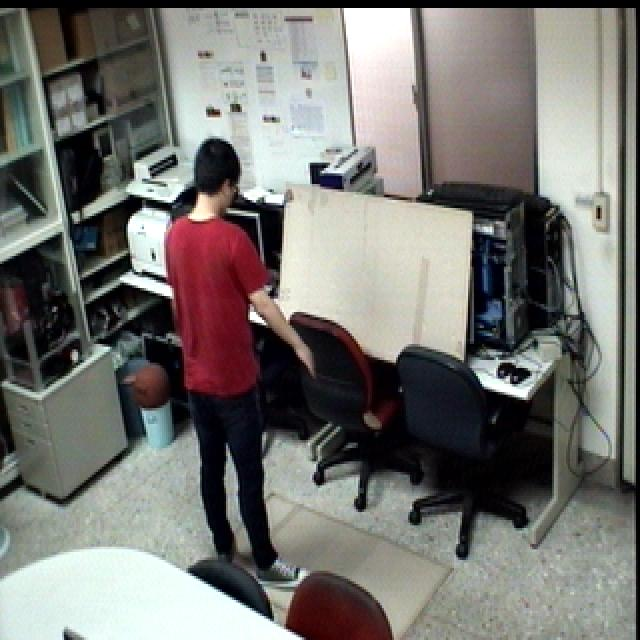stand: (160, 129, 327, 598)
